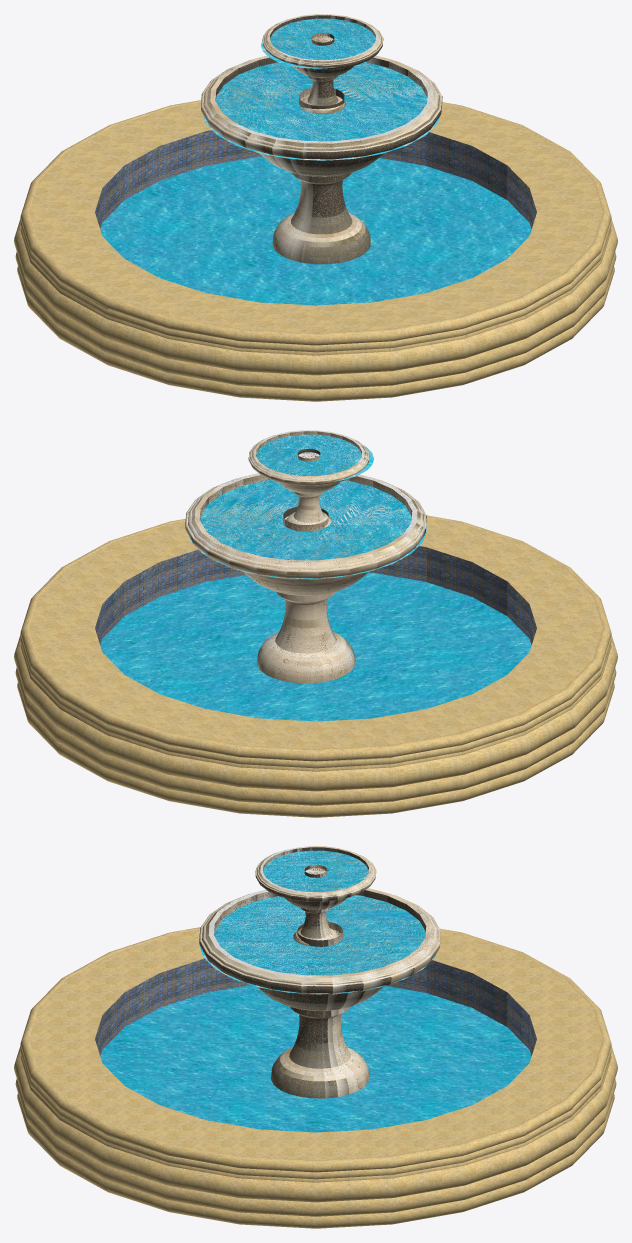
File: fountain.glb
3 views of the same model, one above another, from view 1: azimuth 30°, elevation 25°; view 2: azimuth 150°, elevation 25°; view 3: azimuth 270°, elevation 25° (orthographic).
Visible parts, largest first — view 1: group_0.009, group_0.008, group_0.010, group_0.006, group_0.017, group_0.001, group_0.004, group_0, group_0.005, group_0.019, group_0.011, group_0.015; view 2: group_0.009, group_0.008, group_0.010, group_0.006, group_0.017, group_0.001, group_0.004, group_0, group_0.005, group_0.019, group_0.011, group_0.015; view 3: group_0.009, group_0.008, group_0.010, group_0.006, group_0.017, group_0.001, group_0, group_0.004, group_0.005, group_0.019, group_0.011, group_0.015.
Boxes of the visible parts, x1,y1,x2,y2 form: group_0.009: [20, 102, 611, 355]; group_0.008: [100, 156, 531, 305]; group_0.010: [201, 55, 442, 264]; group_0.006: [14, 218, 617, 375]; group_0.017: [216, 62, 427, 141]; group_0.001: [20, 100, 611, 345]; group_0.004: [95, 130, 536, 228]; group_0: [15, 252, 616, 389]; group_0.005: [17, 266, 614, 401]; group_0.019: [270, 18, 375, 59]; group_0.011: [262, 14, 383, 114]; group_0.015: [215, 57, 427, 101]; group_0.009: [20, 517, 611, 771]; group_0.008: [100, 572, 531, 721]; group_0.010: [185, 473, 426, 683]; group_0.006: [14, 634, 617, 791]; group_0.017: [200, 479, 411, 560]; group_0.001: [20, 515, 611, 761]; group_0.004: [95, 546, 536, 644]; group_0: [15, 668, 616, 805]; group_0.005: [17, 683, 614, 817]; group_0.019: [256, 434, 361, 475]; group_0.011: [248, 430, 369, 527]; group_0.015: [200, 475, 412, 520]; group_0.009: [20, 929, 611, 1182]; group_0.008: [100, 985, 531, 1132]; group_0.010: [199, 888, 440, 1098]; group_0.006: [14, 1045, 617, 1202]; group_0.017: [214, 895, 425, 975]; group_0.001: [20, 927, 611, 1172]; group_0: [15, 1079, 616, 1216]; group_0.004: [95, 958, 536, 1055]; group_0.005: [17, 1093, 614, 1228]; group_0.019: [263, 850, 368, 892]; group_0.011: [255, 846, 376, 946]; group_0.015: [214, 890, 426, 935].
Bounding box in the file's own units: 9.55 × 4.33 × 9.55.
8 materials, 7 textured.
